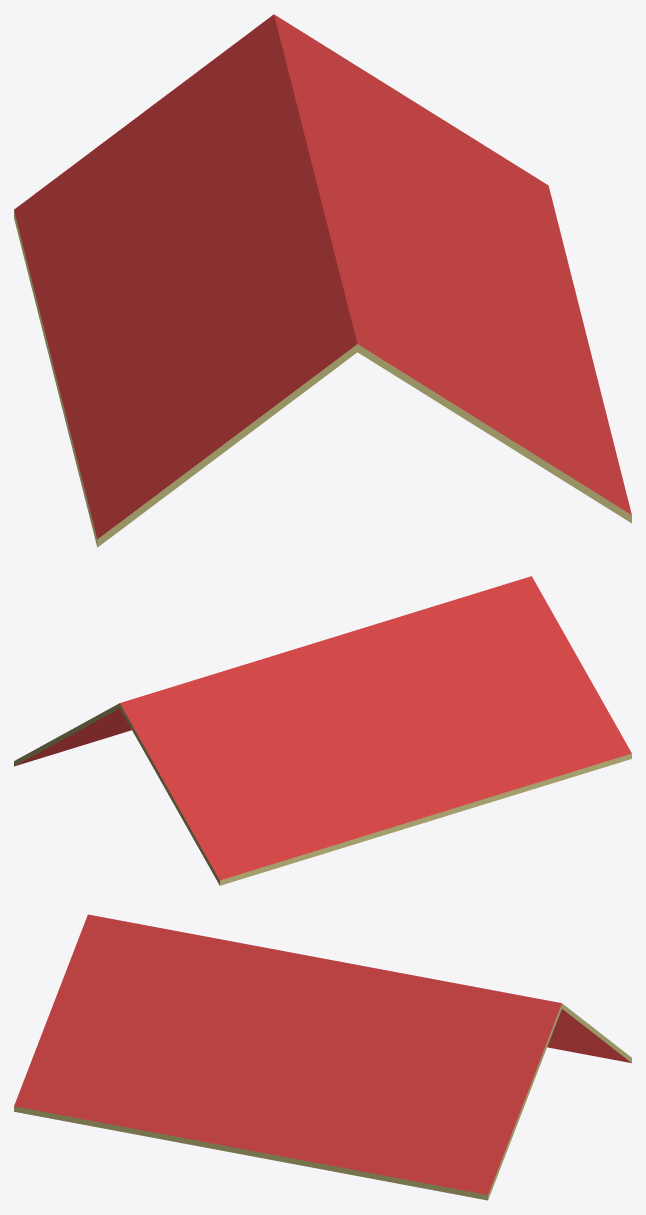
3 renders of one model, top to bottom at view 1: azimuth 30°, elevation 25°; view 2: azimuth 150°, elevation 25°; view 3: azimuth 270°, elevation 25°, orthographic. The views are drawn at different scales.
Bounding box in the file's own units: 8.83 × 10.21 × 2.31.
